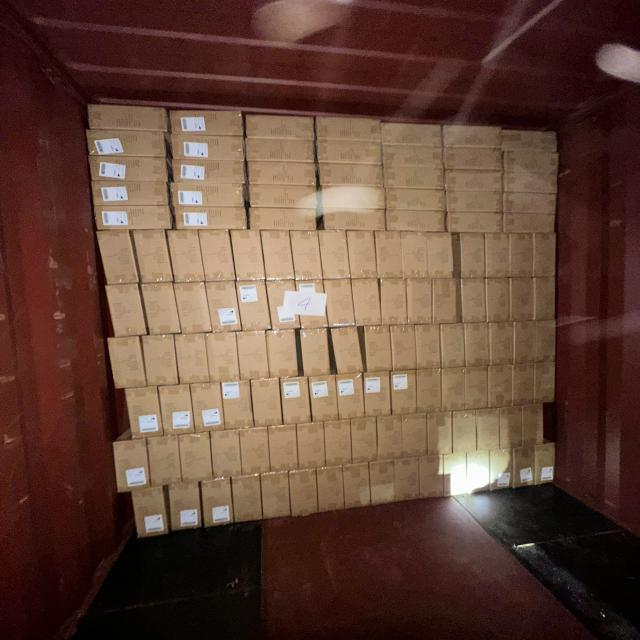Carton: (87, 129, 170, 160), (84, 103, 168, 132), (87, 154, 168, 182), (100, 229, 140, 283), (92, 205, 171, 232), (106, 285, 146, 338), (245, 113, 316, 142), (172, 183, 248, 210), (169, 135, 247, 161), (170, 111, 245, 138), (134, 228, 171, 282), (142, 284, 180, 336), (131, 488, 169, 540), (91, 182, 170, 207), (245, 161, 318, 188), (113, 438, 150, 491), (110, 335, 147, 387), (244, 137, 318, 163), (126, 386, 162, 439), (172, 207, 248, 232), (172, 158, 247, 183), (313, 116, 382, 143), (246, 186, 319, 211), (144, 334, 179, 386), (169, 230, 203, 283), (315, 139, 384, 165), (175, 284, 210, 335), (319, 186, 385, 213), (381, 142, 444, 170), (442, 145, 506, 172), (232, 230, 265, 282), (322, 207, 388, 233), (498, 127, 559, 155), (248, 208, 319, 232), (169, 482, 203, 532), (318, 165, 383, 191), (161, 386, 194, 437), (201, 231, 234, 282), (192, 382, 225, 432), (175, 334, 208, 384), (148, 436, 181, 486), (384, 168, 447, 194), (208, 283, 240, 334), (238, 283, 270, 333), (290, 230, 321, 281), (207, 333, 239, 382), (202, 478, 234, 527), (180, 433, 212, 482), (441, 124, 501, 150), (269, 280, 300, 330), (264, 232, 294, 283), (223, 379, 254, 428), (332, 328, 364, 375), (268, 331, 299, 379), (382, 121, 444, 145), (443, 168, 502, 193), (502, 149, 561, 174), (319, 232, 349, 281), (386, 209, 447, 233), (301, 330, 332, 377), (348, 230, 377, 280), (384, 190, 447, 213), (280, 376, 310, 424), (238, 332, 268, 380), (211, 431, 241, 479), (232, 476, 262, 524), (447, 211, 506, 235), (325, 280, 353, 330), (298, 279, 326, 329), (503, 169, 559, 194), (270, 426, 299, 474), (352, 278, 381, 326), (252, 378, 281, 426), (240, 428, 269, 476), (263, 472, 292, 520), (444, 189, 502, 213), (288, 469, 317, 516), (426, 232, 455, 279), (298, 423, 326, 471), (402, 234, 430, 282), (502, 192, 558, 216), (380, 280, 408, 327), (362, 326, 390, 373), (310, 375, 338, 422), (500, 210, 557, 233), (376, 233, 403, 281), (458, 232, 485, 280), (362, 372, 390, 418), (324, 421, 351, 468), (343, 463, 370, 510), (336, 374, 364, 419), (432, 278, 460, 323), (317, 467, 344, 513), (350, 417, 377, 463), (390, 371, 416, 416), (416, 369, 442, 414), (509, 233, 535, 278), (393, 457, 419, 502), (408, 278, 433, 324), (416, 325, 441, 371), (441, 324, 466, 370), (485, 232, 510, 278), (371, 461, 396, 507), (510, 277, 536, 321), (428, 411, 454, 455), (402, 415, 428, 459), (377, 418, 403, 462), (452, 410, 478, 454), (464, 451, 490, 495), (532, 232, 556, 279), (487, 366, 513, 409), (418, 455, 444, 498), (391, 326, 415, 372), (460, 280, 485, 324), (488, 321, 513, 365), (441, 367, 466, 411), (520, 402, 545, 446), (442, 452, 467, 496), (486, 277, 510, 322), (498, 406, 523, 449), (464, 324, 488, 368), (489, 448, 513, 492), (476, 408, 501, 450), (465, 367, 489, 410), (513, 322, 537, 365), (533, 277, 556, 321), (533, 322, 557, 364), (512, 364, 536, 406), (533, 444, 556, 486), (512, 446, 535, 488), (534, 363, 556, 405)
